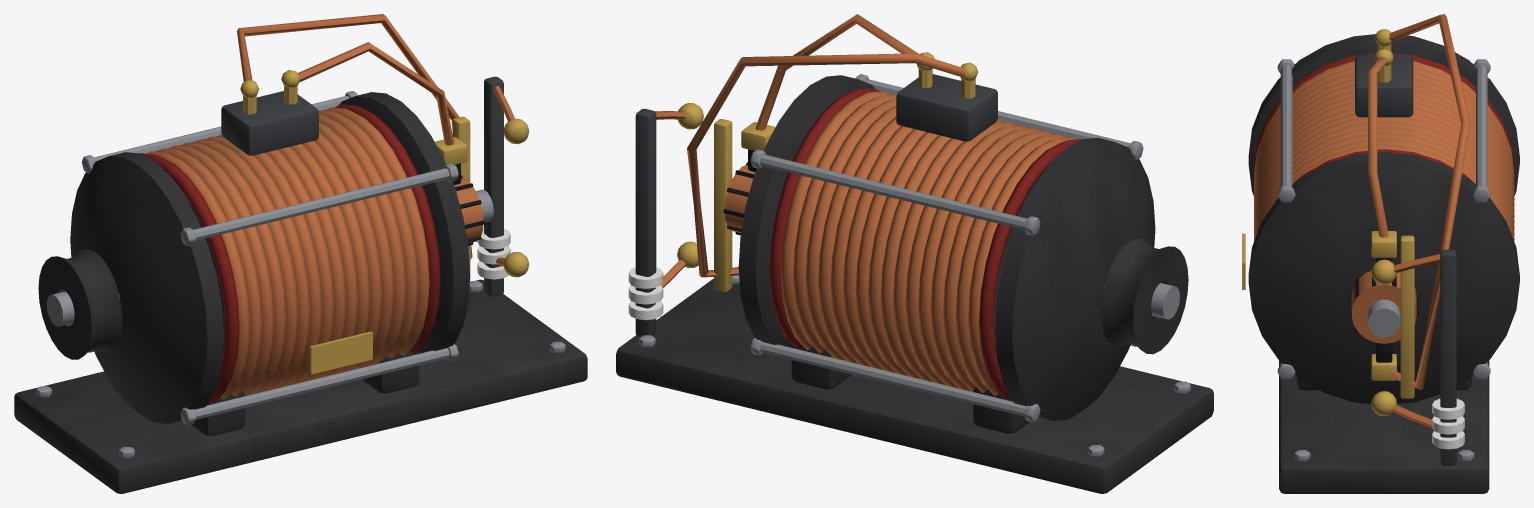
The model's file is core_electric.glb.
The picture shows the model from 3 angles, left to right: view 1: azimuth 30°, elevation 25°; view 2: azimuth 150°, elevation 25°; view 3: azimuth 270°, elevation 25°; orthographic projection. The views are drawn at different scales.
Visible parts, largest first — view 1: core_electric_iron_m, core_electric_copper_m, core_electric_steel_m, core_electric_darkMetal_m, core_electric_paintRed_m, core_electric_brass_m, core_electric_whitePlastic_m; view 2: core_electric_iron_m, core_electric_copper_m, core_electric_steel_m, core_electric_darkMetal_m, core_electric_paintRed_m, core_electric_brass_m, core_electric_whitePlastic_m; view 3: core_electric_iron_m, core_electric_copper_m, core_electric_darkMetal_m, core_electric_steel_m, core_electric_brass_m, core_electric_paintRed_m, core_electric_whitePlastic_m, core_electric_blackPlastic_m.
Part boxes in pixels (<box>): core_electric_iron_m: <box>14,92,587,493</box>; core_electric_copper_m: <box>146,14,514,399</box>; core_electric_steel_m: <box>36,91,565,458</box>; core_electric_darkMetal_m: <box>186,76,503,356</box>; core_electric_paintRed_m: <box>140,104,440,403</box>; core_electric_brass_m: <box>240,70,529,374</box>; core_electric_whitePlastic_m: <box>477,228,510,279</box>; core_electric_iron_m: <box>616,75,1213,493</box>; core_electric_copper_m: <box>655,14,1076,395</box>; core_electric_steel_m: <box>639,74,1190,456</box>; core_electric_darkMetal_m: <box>635,74,1034,350</box>; core_electric_paintRed_m: <box>769,88,1082,399</box>; core_electric_brass_m: <box>677,52,978,292</box>; core_electric_whitePlastic_m: <box>628,267,663,320</box>; core_electric_iron_m: <box>1248,34,1519,493</box>; core_electric_copper_m: <box>1254,14,1514,427</box>; core_electric_darkMetal_m: <box>1355,54,1456,465</box>; core_electric_steel_m: <box>1277,59,1490,461</box>; core_electric_brass_m: <box>1242,29,1414,416</box>; core_electric_paintRed_m: <box>1253,53,1514,184</box>; core_electric_whitePlastic_m: <box>1432,398,1464,449</box>; core_electric_blackPlastic_m: <box>1349,258,1418,362</box>.
Size of the model in its own units: 0.474 by 0.3335 by 0.2375.
Materials: 8 (5 with a texture image).
